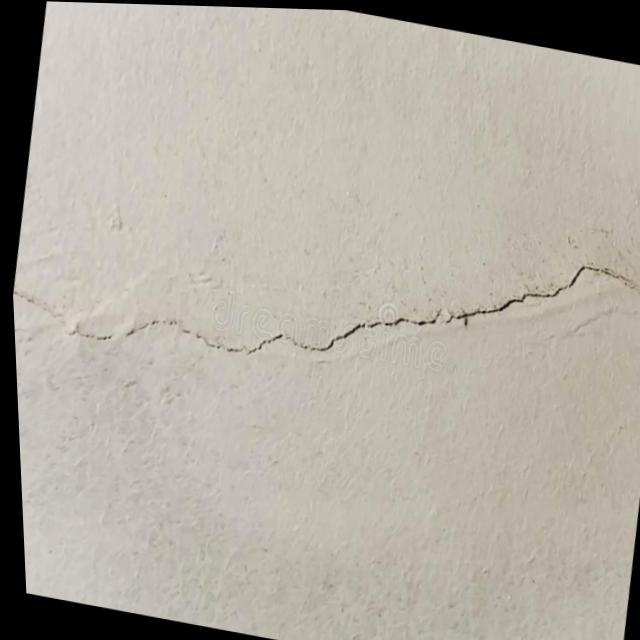Crack: (10, 282, 164, 352), (516, 240, 595, 309), (445, 280, 514, 329)
